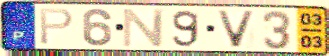3: (261, 9, 293, 51)
6: (81, 8, 114, 48)
9: (170, 9, 200, 48)
N: (121, 7, 167, 48)
P: (38, 7, 75, 46)
V: (215, 10, 258, 49)
